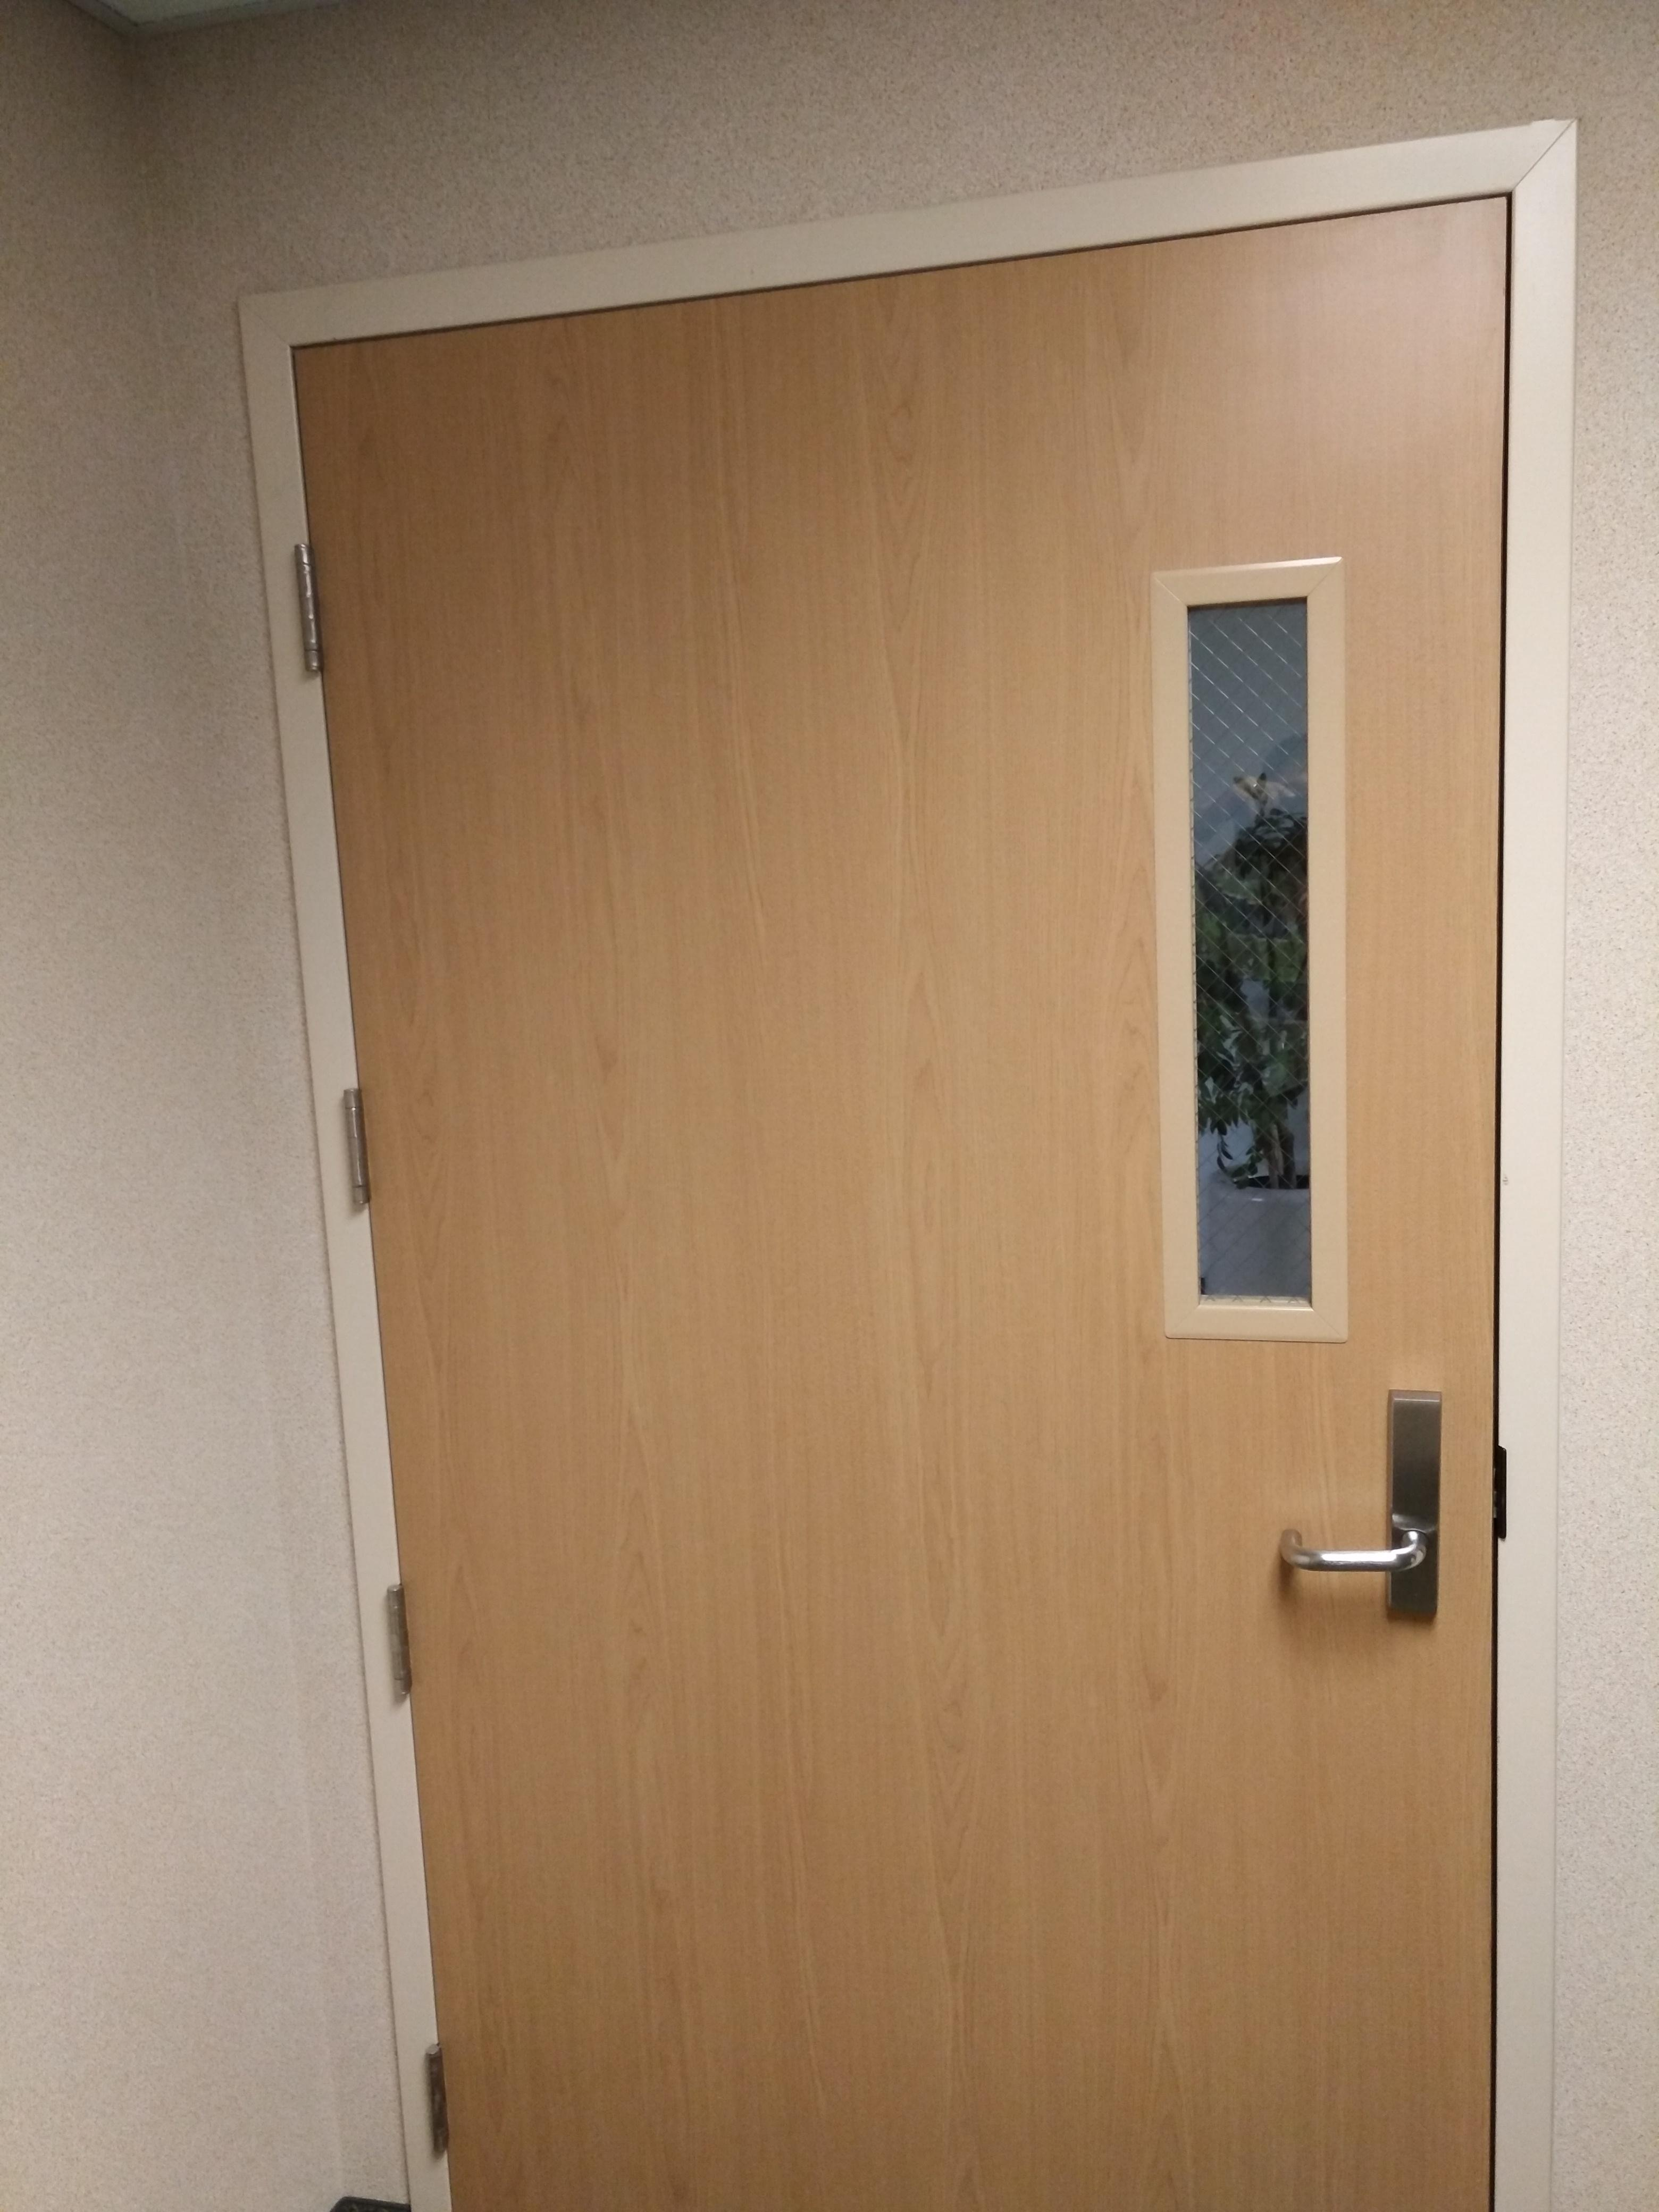door: (361, 181, 1495, 2200)
